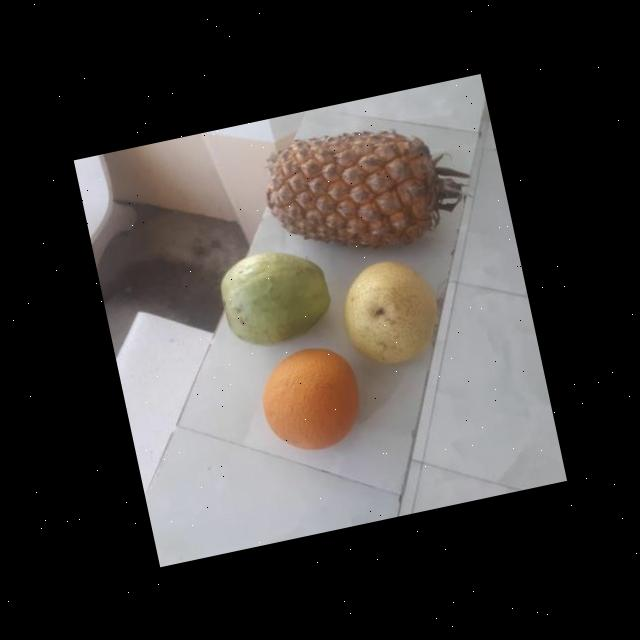guava: (212, 240, 342, 356)
orange: (252, 336, 374, 459)
pear: (334, 251, 451, 369)
pineapple: (260, 112, 457, 268)
